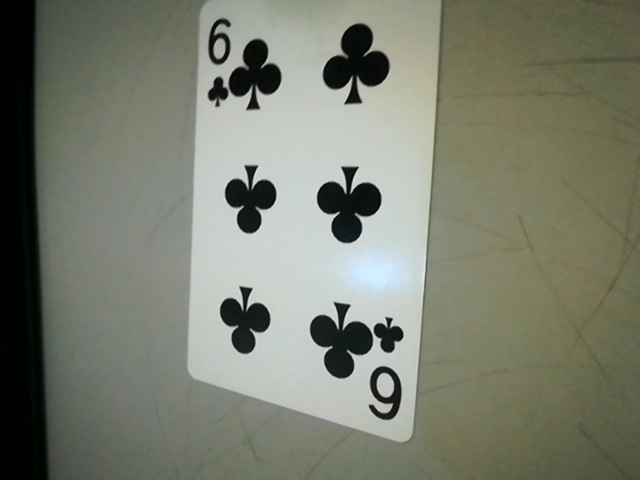mh 6: (363, 310, 415, 432)
